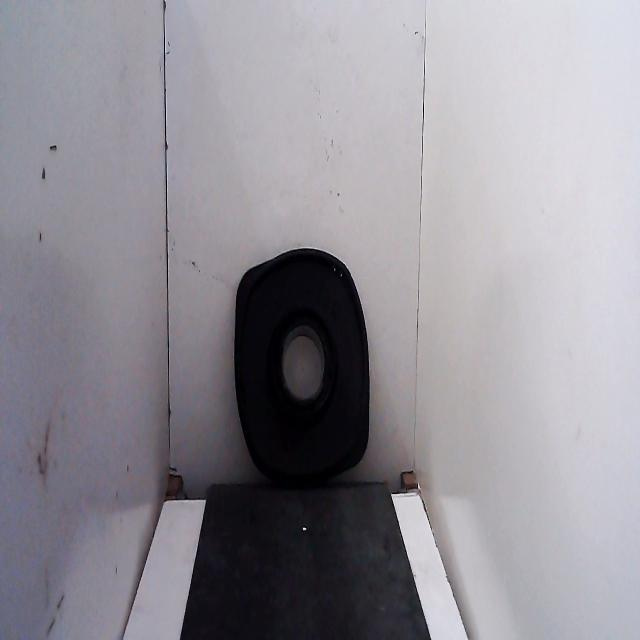plastico: (222, 229, 387, 505)
